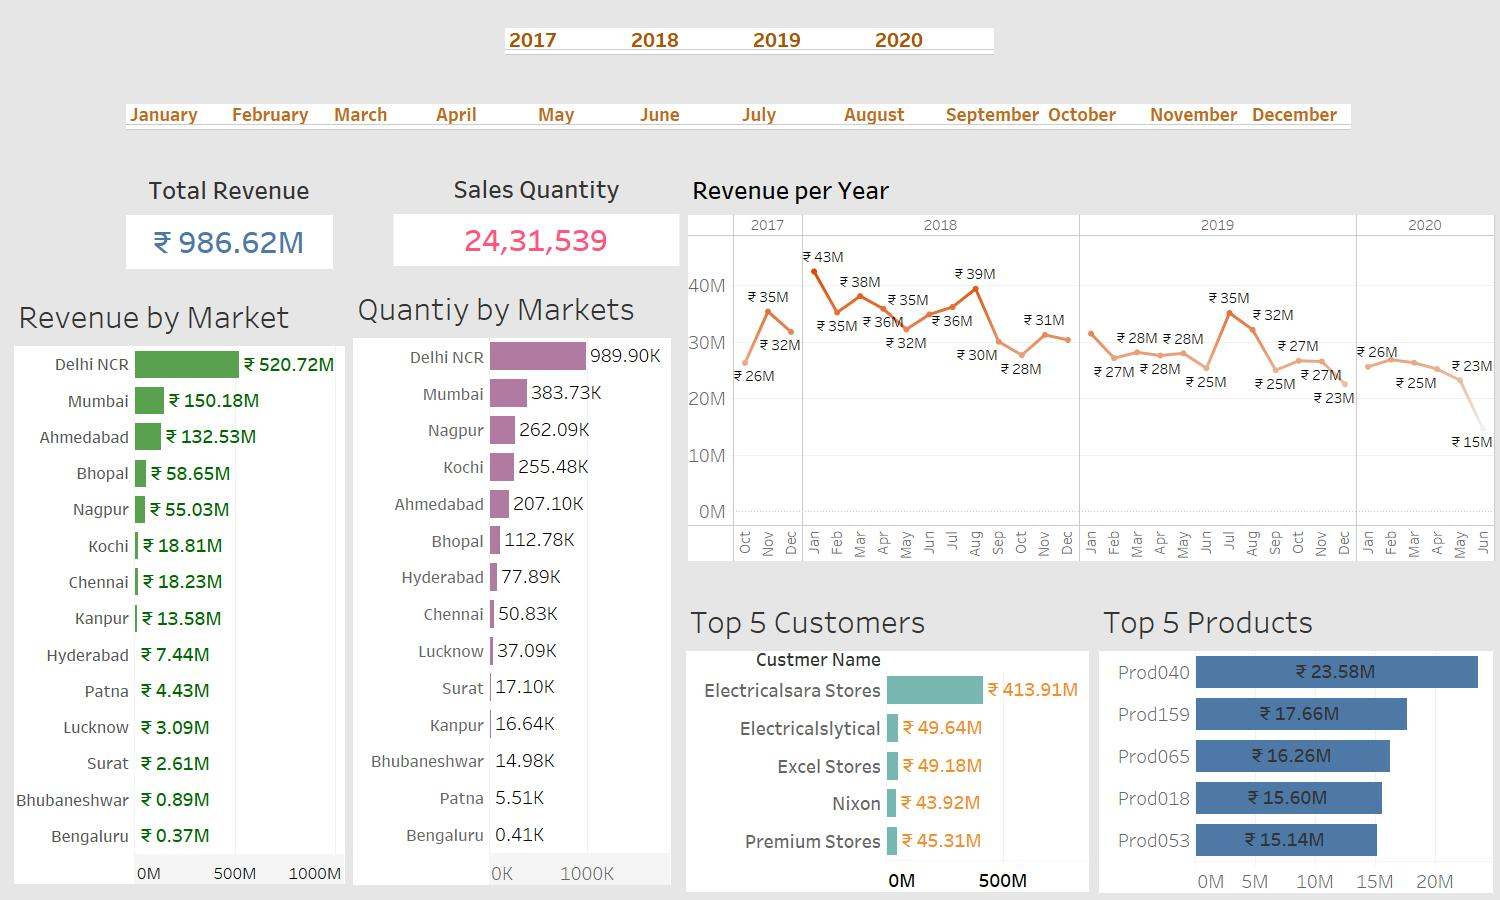

This screenshot's page, from the dashboard's own definition file:
{"tool":"tableau","page":{"name":"Dashboard","canvas":[1500,900],"ordinal":0},"visuals":[{"type":"worksheet","title":"Year","mark":"Automatic","cols":["cy_date"],"box":[505.3,13,505.3,73]},{"type":"worksheet","title":"Month","mark":"Automatic","cols":["cy_date"],"box":[125.6,104,1285.3,65]},{"type":"worksheet","title":"Sales Quantity","mark":"Automatic","box":[393,166,287,100]},{"type":"worksheet","title":"Total Revenue","mark":"Automatic","box":[126,167,206,101]},{"type":"worksheet","title":"Revenue per Year","mark":"Automatic","rows":["Calculation_1573445157605703680"],"cols":["cy_date","cy_date"],"box":[688,167,807,395]},{"type":"worksheet","title":"Quantiy by Markets","mark":"Automatic","rows":["markets_name"],"cols":["sales_qty"],"box":[353,281,317,604]},{"type":"worksheet","title":"Revenue by Market","mark":"Automatic","rows":["markets_name"],"cols":["Calculation_1573445157605703680"],"box":[14,289,330,595]},{"type":"worksheet","title":"Top 5 Customers","mark":"Automatic","rows":["custmer_name"],"cols":["Calculation_1573445157605703680"],"box":[686,594,402,298]},{"type":"worksheet","title":"Top 5 Products","mark":"Automatic","rows":["product_code (products)"],"cols":["Calculation_1573445157605703680"],"box":[1099,594,393,299]}]}

Visuals, with their boxes in screenshot pixels (x1, y1, x2, y2), scaled from the page's 1500x900 canvas onto the 1500x900 screenshot:
"Year" worksheet: (left=505, top=13, right=1011, bottom=86)
"Month" worksheet: (left=126, top=104, right=1411, bottom=169)
"Sales Quantity" worksheet: (left=393, top=166, right=680, bottom=266)
"Total Revenue" worksheet: (left=126, top=167, right=332, bottom=268)
"Revenue per Year" worksheet: (left=688, top=167, right=1495, bottom=562)
"Quantiy by Markets" worksheet: (left=353, top=281, right=670, bottom=885)
"Revenue by Market" worksheet: (left=14, top=289, right=344, bottom=884)
"Top 5 Customers" worksheet: (left=686, top=594, right=1088, bottom=892)
"Top 5 Products" worksheet: (left=1099, top=594, right=1492, bottom=893)
